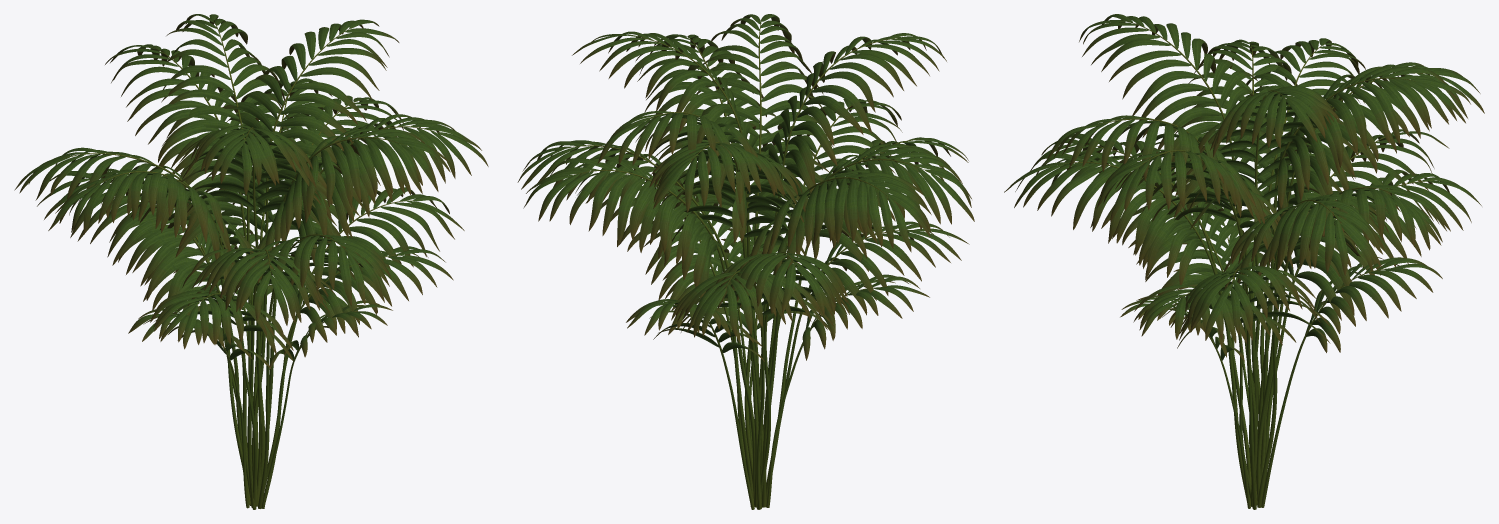
3 renders of one model, left to right at view 1: azimuth 30°, elevation 25°; view 2: azimuth 150°, elevation 25°; view 3: azimuth 270°, elevation 25°, orthographic. The views are drawn at different scales.
Parts seen in each view (by area): view 1: Howea_f__A001 preview, Howea_f__A002 preview; view 2: Howea_f__A001 preview, Howea_f__A002 preview; view 3: Howea_f__A001 preview, Howea_f__A002 preview.
Part boxes in pixels (x1,y1,x2,y2): Howea_f__A001 preview: [37, 19, 488, 509]; Howea_f__A002 preview: [14, 14, 453, 508]; Howea_f__A001 preview: [523, 31, 974, 509]; Howea_f__A002 preview: [517, 14, 968, 509]; Howea_f__A001 preview: [1004, 14, 1484, 509]; Howea_f__A002 preview: [1030, 38, 1481, 500].
Size of the model in its own units: 167 by 179 by 169.
2 materials, 2 textured.
